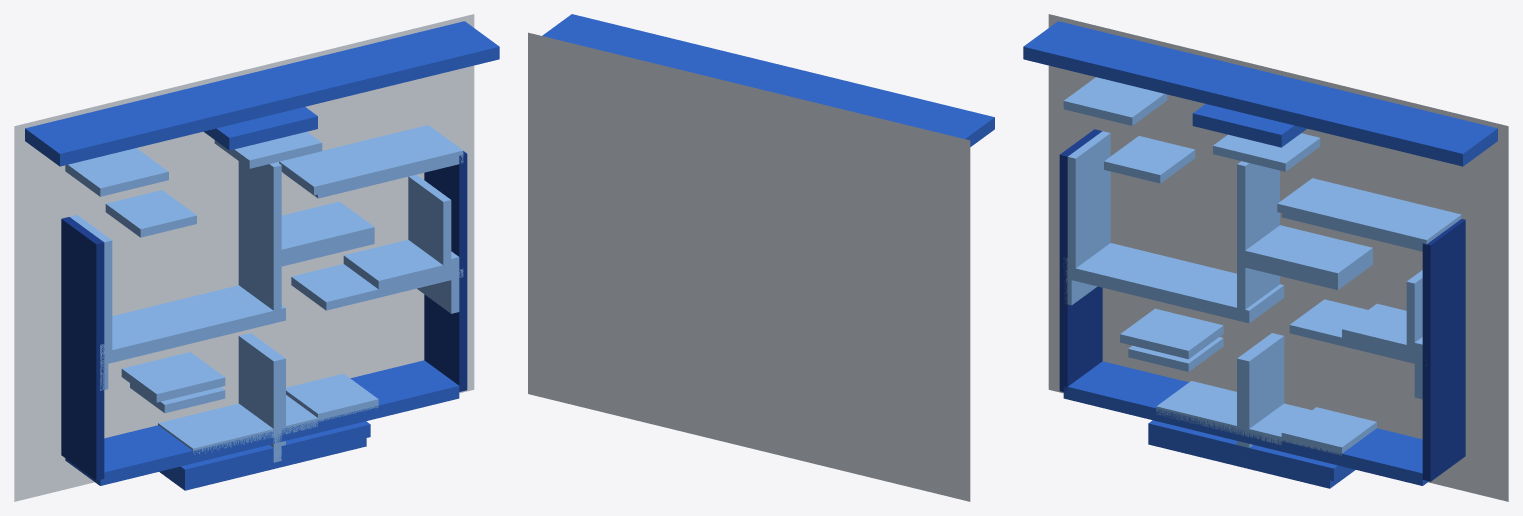
The model's file is 59384b77-1b93-4390-ace2-868349c35d82.obj.
3 renders of one model, left to right at view 1: azimuth 30°, elevation 25°; view 2: azimuth 150°, elevation 25°; view 3: azimuth 330°, elevation 25°, orthographic. The views are drawn at different scales.
Bounding box in the file's own units: 22.8 × 17.8 × 3.05.
